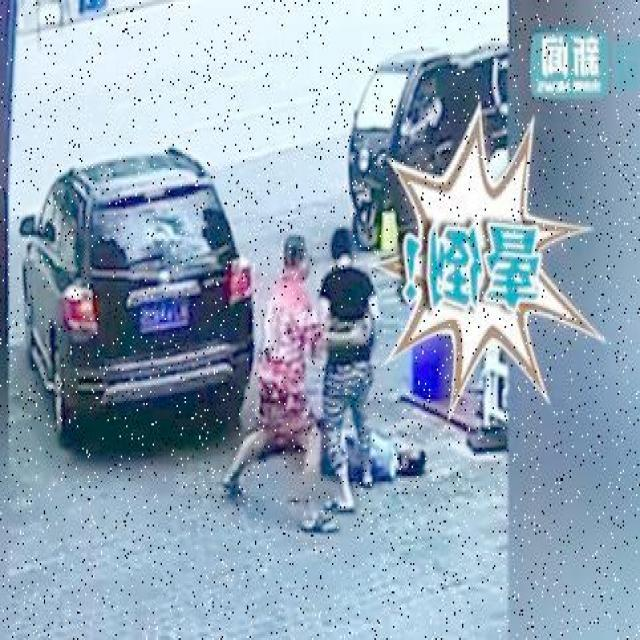fall: (270, 403, 426, 484)
